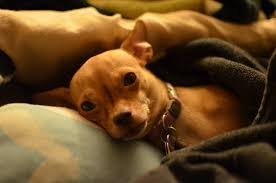chihuahua: (41, 19, 194, 148)
